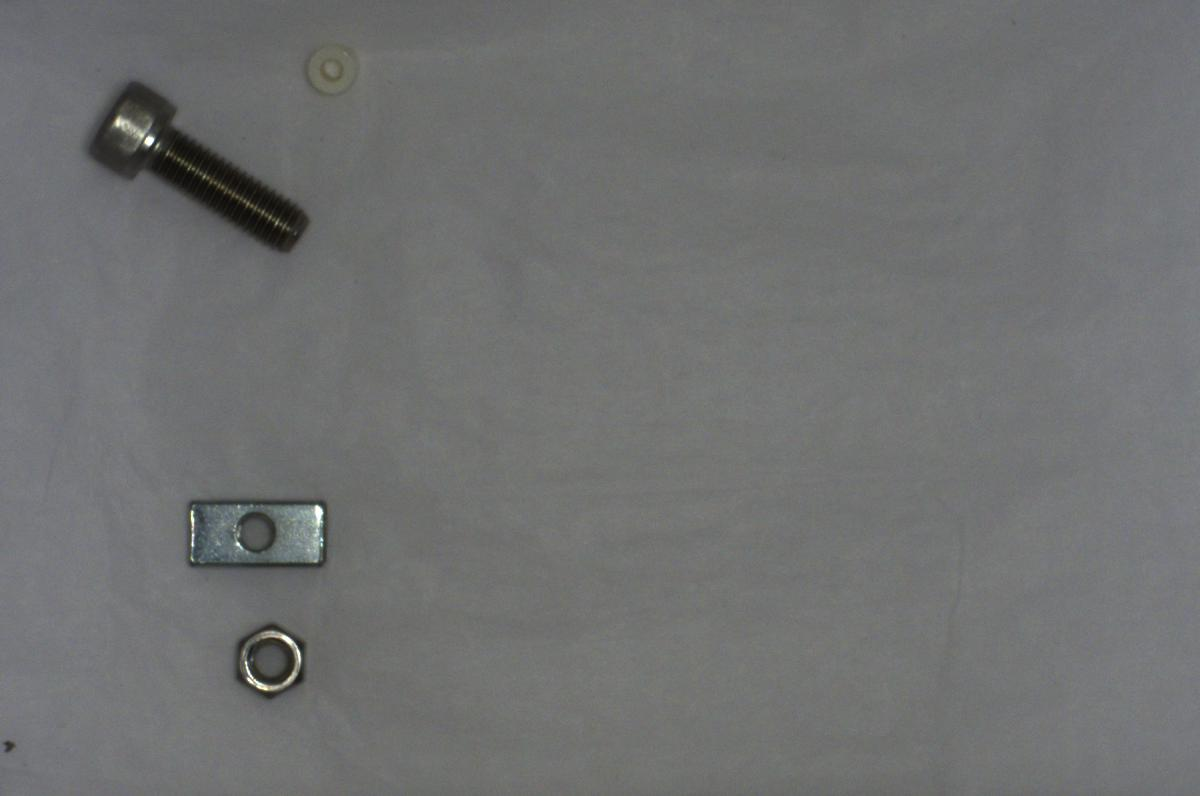Hexagon nut: (226, 616, 308, 699)
Hexagon screw: (82, 76, 311, 250)
Plastic cushion pillar: (299, 34, 371, 94)
Rectangular nut: (175, 492, 332, 572)
